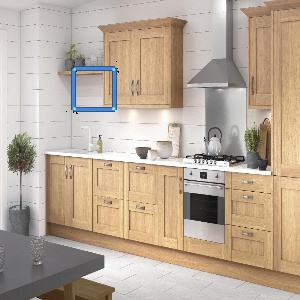square: (69, 64, 118, 113)
